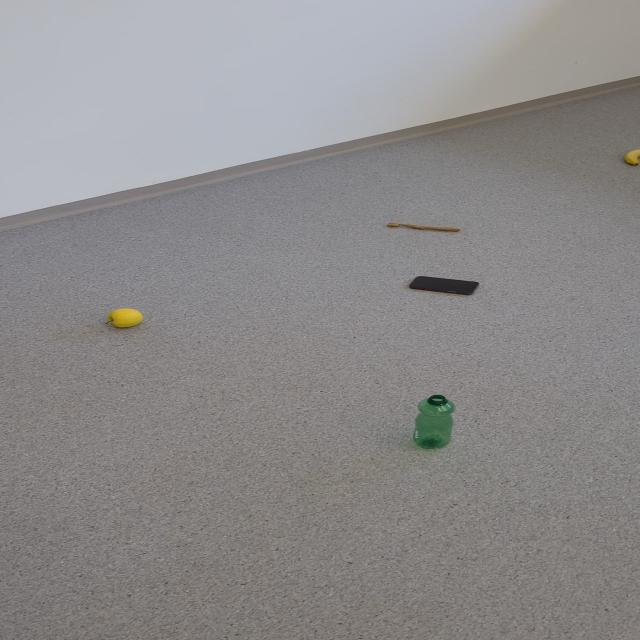apple: (107, 307, 143, 328)
banana: (623, 149, 639, 165)
bottle: (412, 394, 456, 449)
phone: (408, 276, 479, 296)
